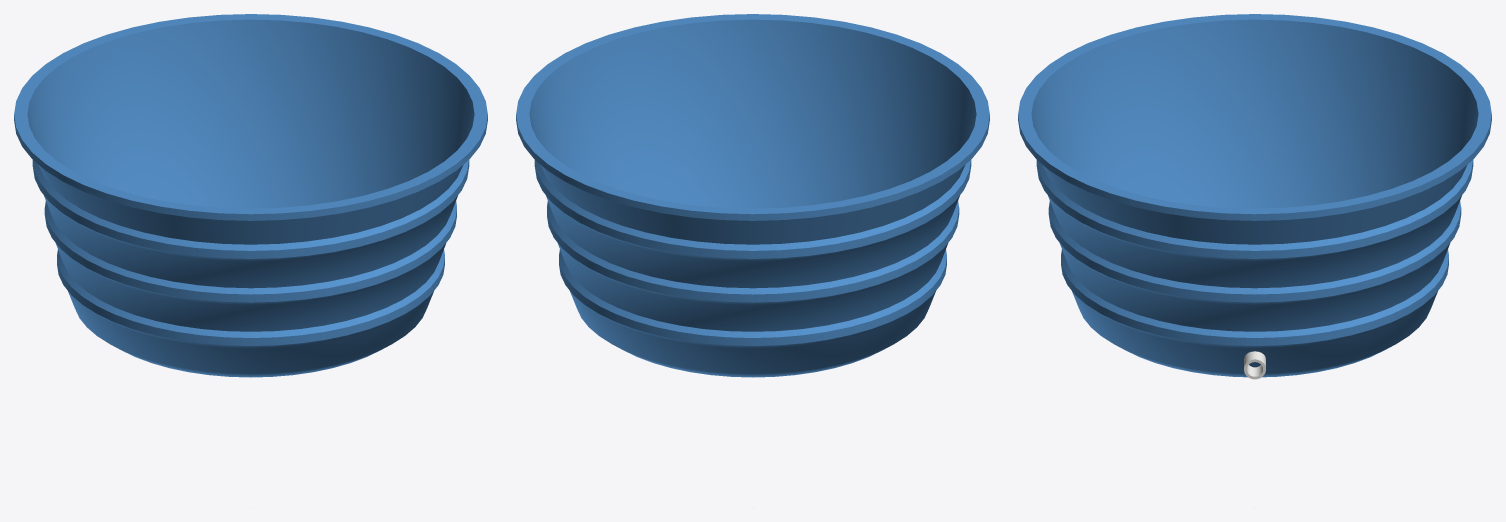
Rendered from HID-RES-001_anim.glb.
3 views of the same model, side by side, from view 1: azimuth 30°, elevation 25°; view 2: azimuth 150°, elevation 25°; view 3: azimuth 270°, elevation 25° (orthographic).
Visible parts, largest first — view 1: HID-RES-001_anim0; view 2: HID-RES-001_anim0; view 3: HID-RES-001_anim0.
Boxes of the visible parts, x1,y1,x2,y2 form: HID-RES-001_anim0: (14, 14, 487, 377); HID-RES-001_anim0: (516, 14, 989, 377); HID-RES-001_anim0: (1018, 14, 1491, 379).
Size of the model in its own units: 1.28 by 1.17 by 1.28.
